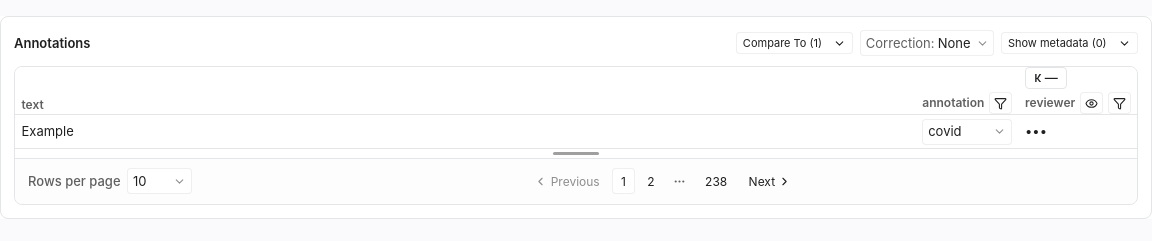
Test case: AnnotationResultsPanel › updates full-table comparison counts after a successful edit without re-querying
Click the button named "Show comparison values for reviewer".
click(1092, 103)  # box x1=1080 y1=92 x2=1103 y2=114
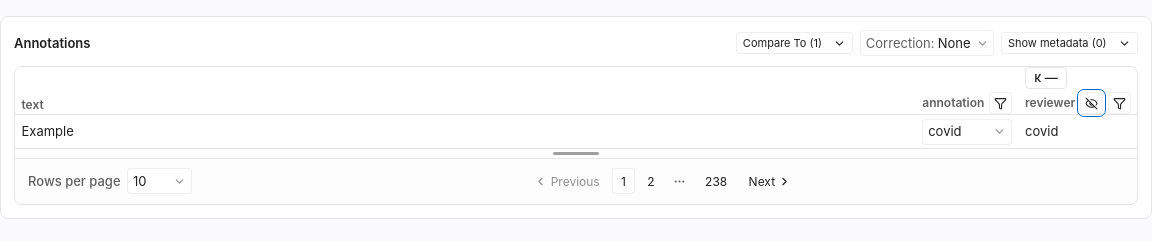
Expected: the button named "Cohen’s Kappa unavailable for annotation versus reviewer" is shown, x1=1025 y1=67 x2=1067 y2=89
Click the dropdown named "Class for row 1".
click(967, 132)  # box x1=922 y1=118 x2=1012 y2=144
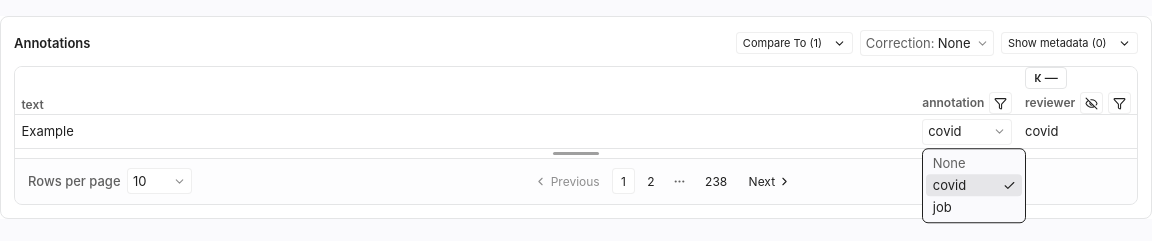
Click the option "job".
click(942, 207)  # box x1=933 y1=199 x2=952 y2=215
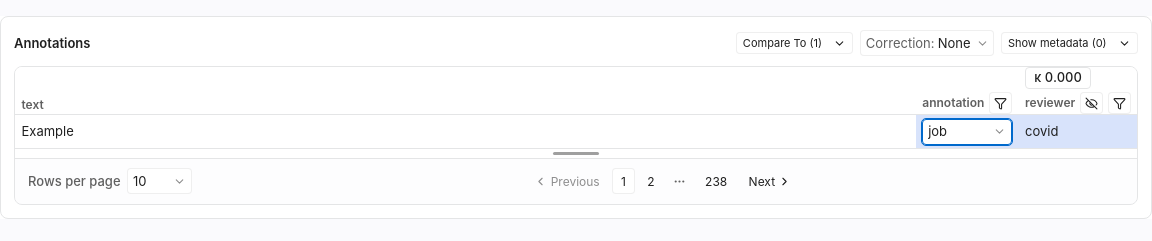
Expected: the button named "Cohen’s Kappa 0.000 for annotation versus reviewer" is shown, x1=1025 y1=67 x2=1091 y2=89
